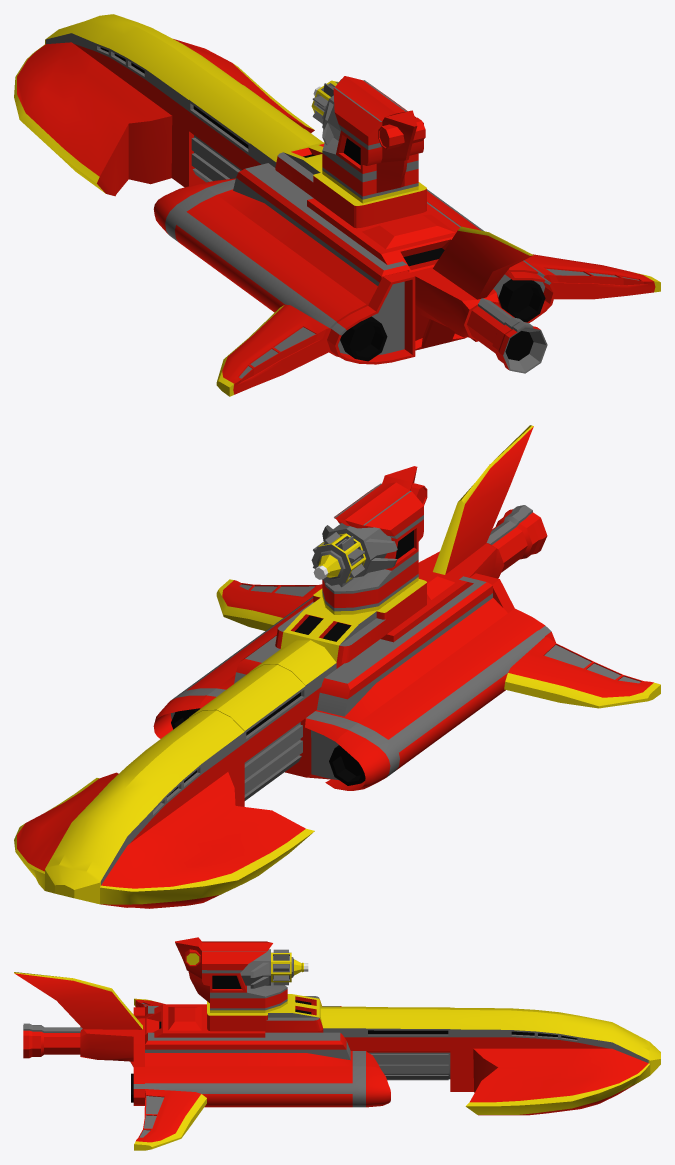
Rendered from Eggman.fbx.
The picture shows the model from 3 angles, top to bottom: view 1: azimuth 30°, elevation 25°; view 2: azimuth 150°, elevation 25°; view 3: azimuth 270°, elevation 25°; orthographic projection. The views are drawn at different scales.
Parts seen in each view (by area): view 1: Sides, Hull, Front, Tower, Engine, Funnels, Weapon, Detail; view 2: Hull, Sides, Front, Tower, Weapon, Engine, Funnels; view 3: Hull, Sides, Front, Tower, Weapon, Engine.
Part boxes in pixels (<box>): Sides: <box>153,163,660,396</box>; Hull: <box>45,14,533,350</box>; Front: <box>14,39,314,196</box>; Tower: <box>322,76,423,203</box>; Engine: <box>467,298,547,373</box>; Funnels: <box>340,279,545,361</box>; Weapon: <box>311,79,341,145</box>; Detail: <box>378,117,425,149</box>; Hull: <box>45,425,533,907</box>; Sides: <box>153,573,660,790</box>; Front: <box>14,772,314,908</box>; Tower: <box>322,466,423,614</box>; Weapon: <box>311,523,397,587</box>; Engine: <box>486,505,547,572</box>; Funnels: <box>171,708,365,785</box>; Hull: <box>14,972,660,1091</box>; Sides: <box>133,998,390,1150</box>; Front: <box>465,1048,650,1115</box>; Tower: <box>175,937,287,1012</box>; Weapon: <box>240,949,308,988</box>; Engine: <box>23,1023,82,1058</box>.
Size of the model in its own units: 1929 by 902 by 3621.
